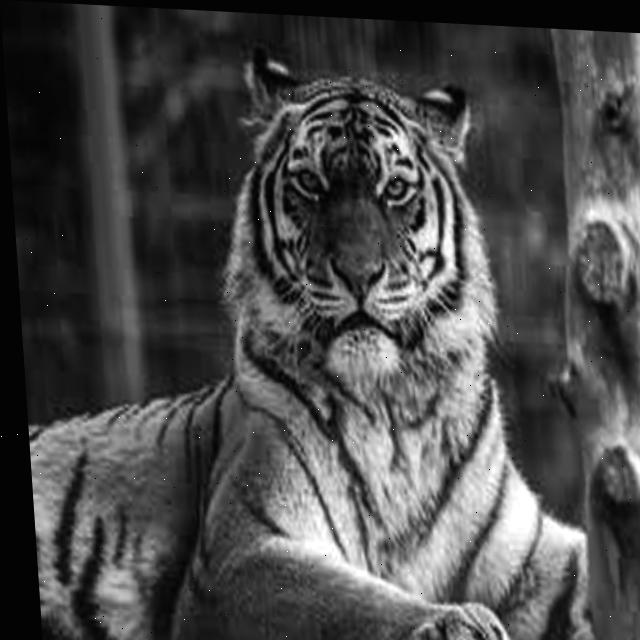Tiger: (2, 31, 599, 640)
